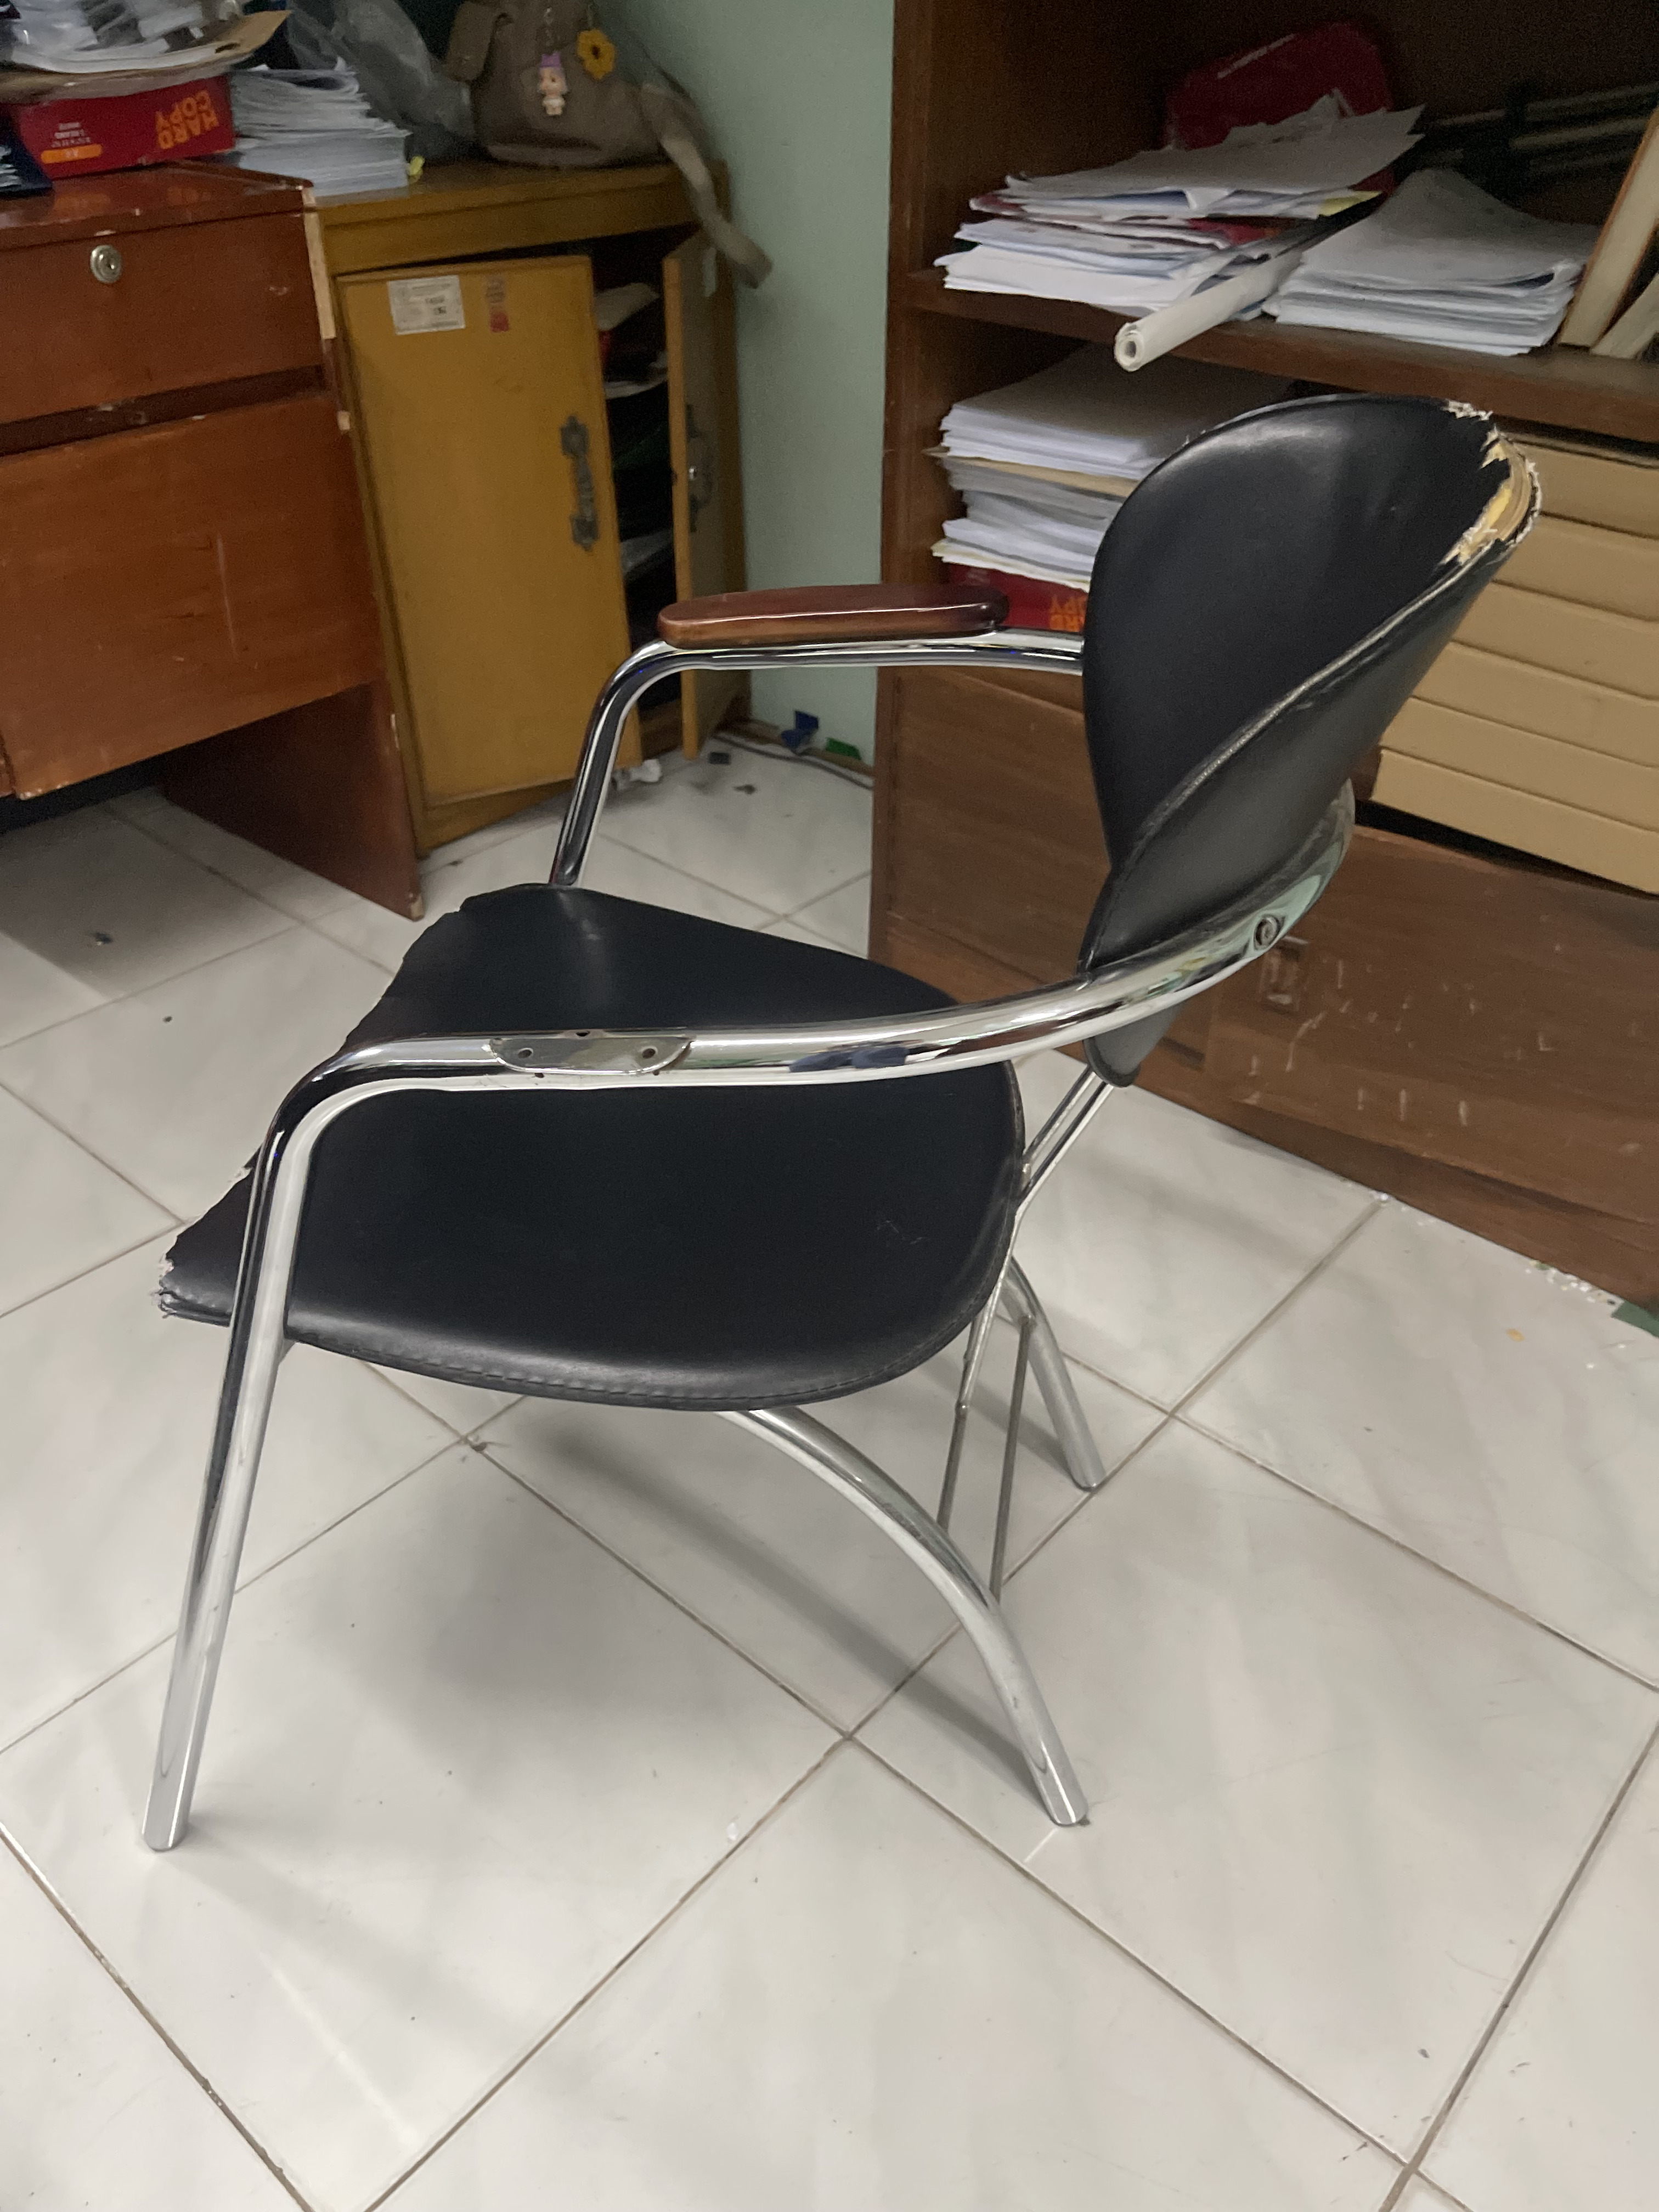chair1: (143, 394, 1541, 1921)
